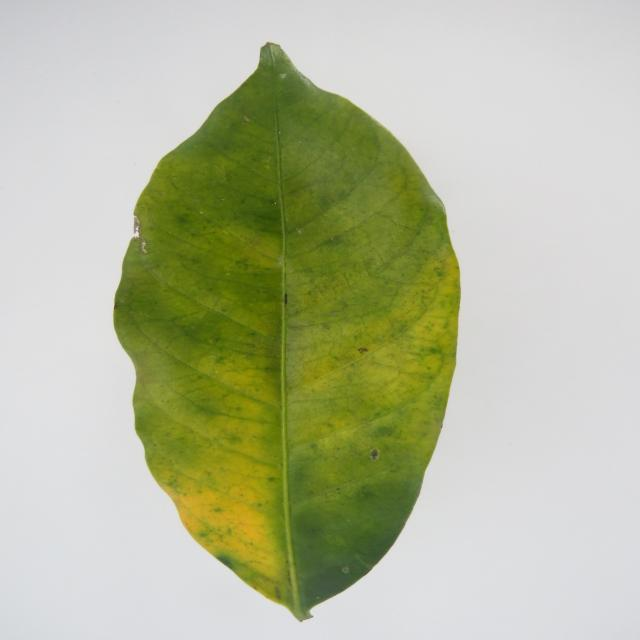DeficienciaNutricional-Nitrogeno: (121, 49, 459, 613)
